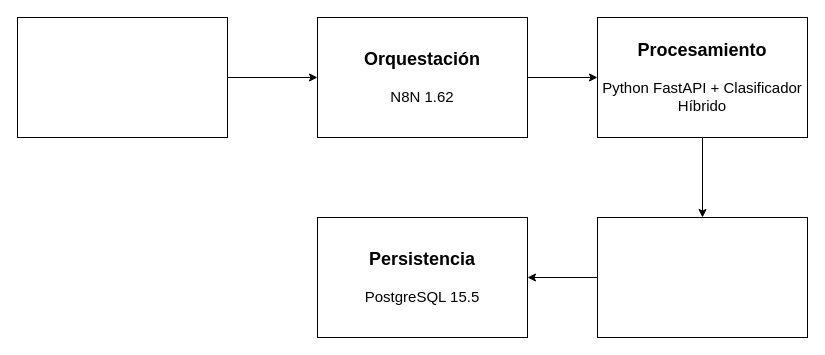
Image size: 825x355. Some labels were removed from this diagram. Here are the shapes that lost their labels. From the top down, the centre of each, then its label:
(122,77): CANALES DE ENTRADA Email IMAP, Formulario Web, Twilio Telefónico
(702,277): Inferencia Gemini 2.5 Flash
